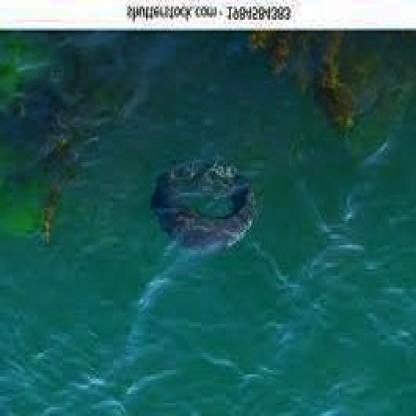tire: (148, 142, 265, 267)
